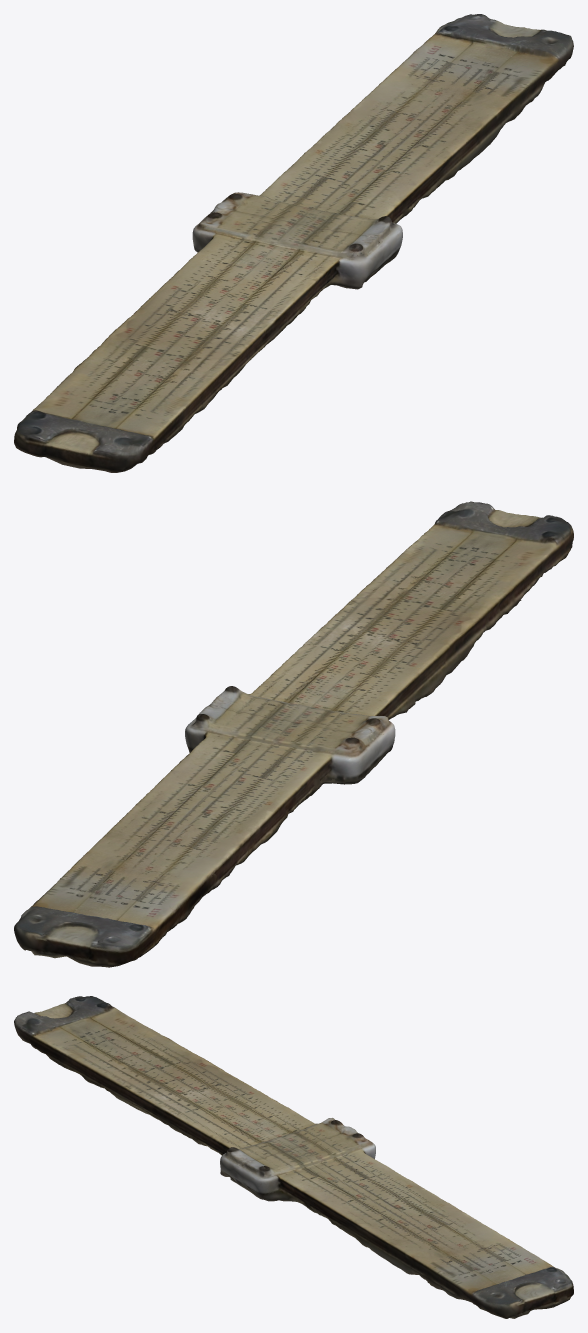
The model's file is slide_ruler.glb.
The picture shows the model from 3 angles, top to bottom: view 1: azimuth 30°, elevation 25°; view 2: azimuth 210°, elevation 25°; view 3: azimuth 270°, elevation 25°; orthographic projection. The views are drawn at different scales.
Parts seen in each view (by area): view 1: 3DModel; view 2: 3DModel; view 3: 3DModel.
Boxes of the visible parts, box(x1,y1,x2,y2) form: 3DModel: box(14, 14, 573, 472); 3DModel: box(14, 501, 573, 967); 3DModel: box(14, 996, 573, 1318).
Bounding box in the file's own units: 1.61 × 0.0845 × 1.24.
1 material, 1 textured.
